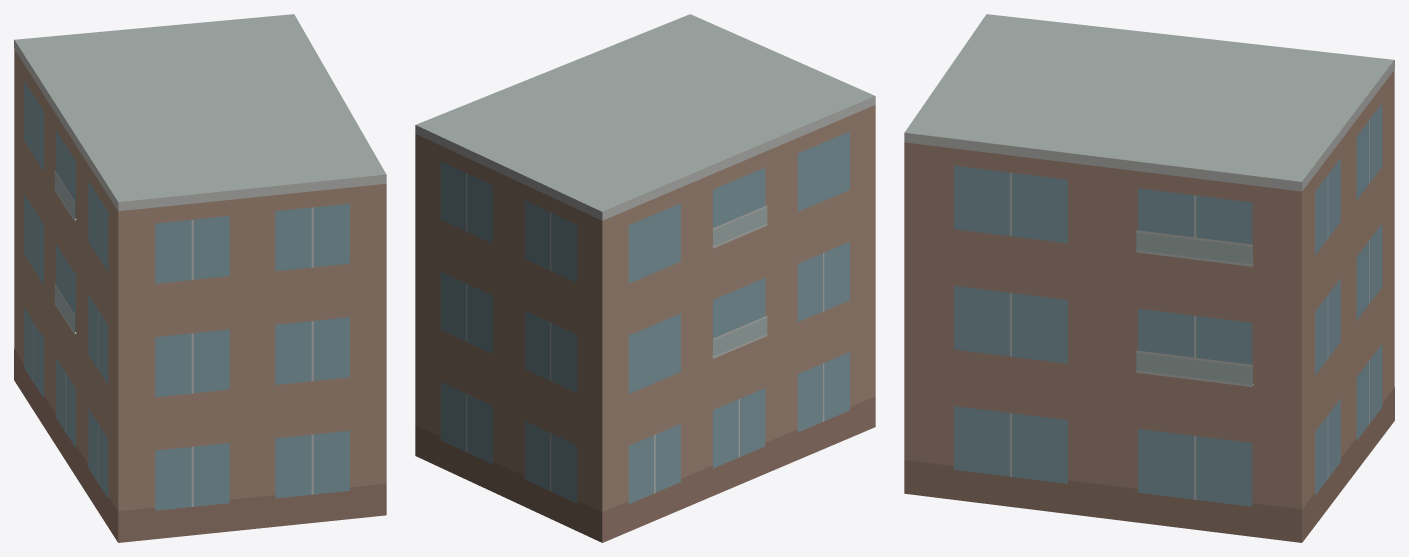
The model's file is survey-upis-32506724.glb.
The picture shows the model from 3 angles, left to right: view 1: azimuth 30°, elevation 25°; view 2: azimuth 150°, elevation 25°; view 3: azimuth 270°, elevation 25°; orthographic projection. The views are drawn at different scales.
Parts seen in each view (by area): view 1: survey-upis-32506724.tmp; view 2: survey-upis-32506724.tmp; view 3: survey-upis-32506724.tmp.
Part boxes in pixels (box(x1,y1,x2,y2)): survey-upis-32506724.tmp: box(14, 14, 386, 542); survey-upis-32506724.tmp: box(415, 14, 875, 542); survey-upis-32506724.tmp: box(904, 14, 1394, 542).
Bounding box in the file's own units: 9.14 × 9.15 × 11.28.
